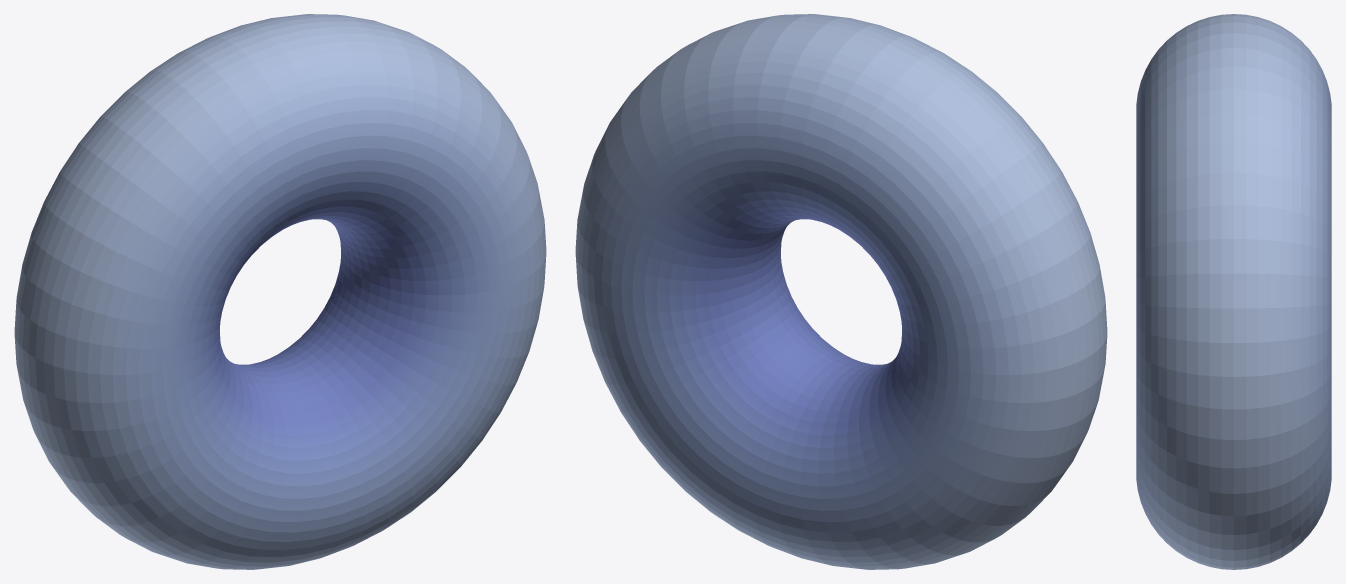
3 views of the same model, side by side, from view 1: azimuth 30°, elevation 25°; view 2: azimuth 150°, elevation 25°; view 3: azimuth 270°, elevation 25° (orthographic). The views are drawn at different scales.
Parts seen in each view (by area): view 1: world; view 2: world; view 3: world.
Boxes of the visible parts, box(x1,y1,x2,y2) form: world: box(14, 14, 546, 569); world: box(575, 14, 1107, 569); world: box(1136, 14, 1331, 569).
Size of the model in its own units: 18.53 by 18.5 by 6.52.
